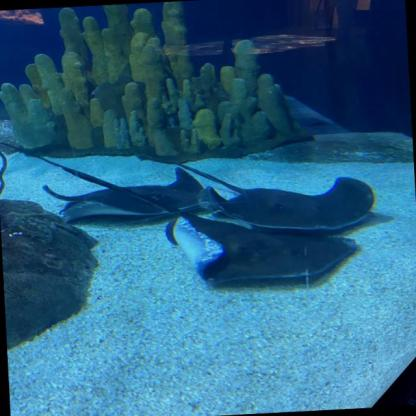stingray: (168, 206, 360, 285), (215, 175, 375, 236), (56, 165, 210, 223)
